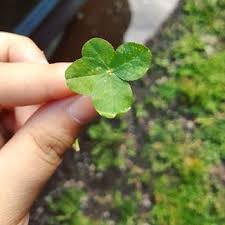4-clover: (66, 39, 150, 116)
